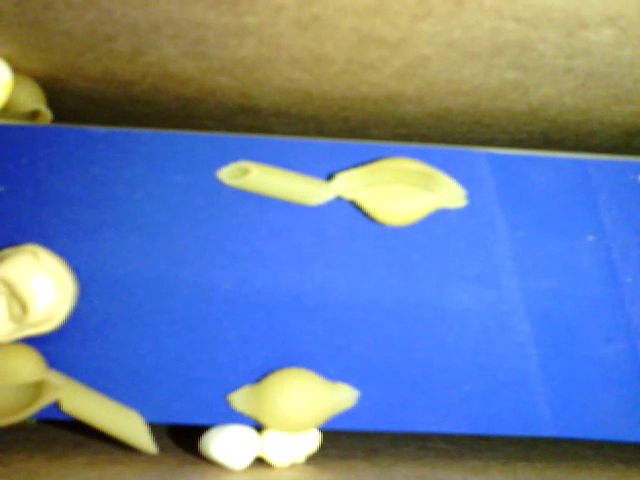penne: (58, 372, 157, 454), (213, 160, 341, 210)
shell: (330, 155, 468, 229), (227, 362, 359, 430), (1, 333, 58, 421), (2, 70, 52, 129)
tortellini: (1, 237, 82, 346)
